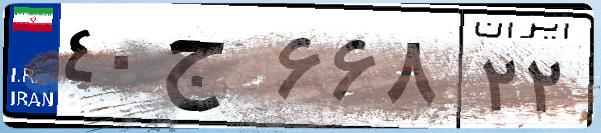0: (110, 28, 158, 98)
2: (475, 38, 525, 113), (525, 38, 570, 115)
4: (57, 26, 110, 100)
6: (270, 28, 330, 110), (330, 28, 385, 110)
8: (385, 28, 445, 110)
ج: (158, 20, 270, 120)
